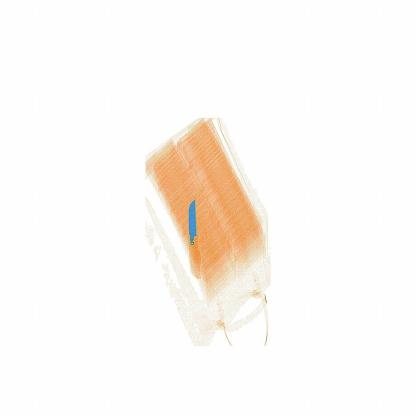wrench: (182, 198, 202, 281)
